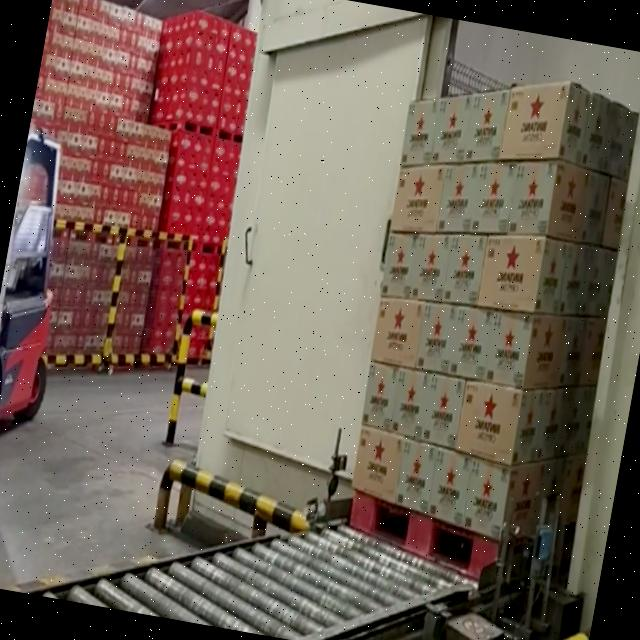pallet: (322, 43, 640, 599)
